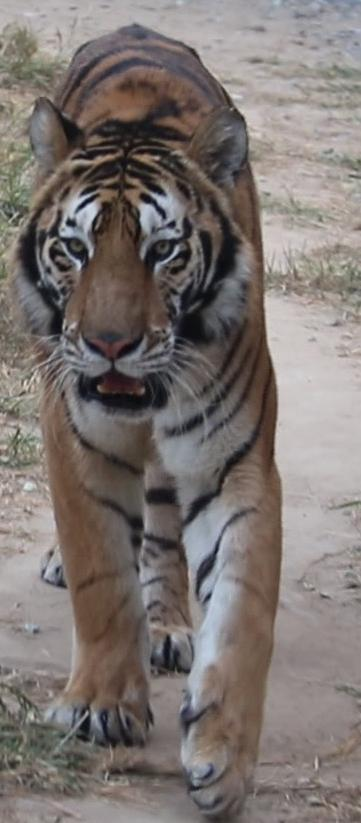tiger: (14, 25, 281, 819)
